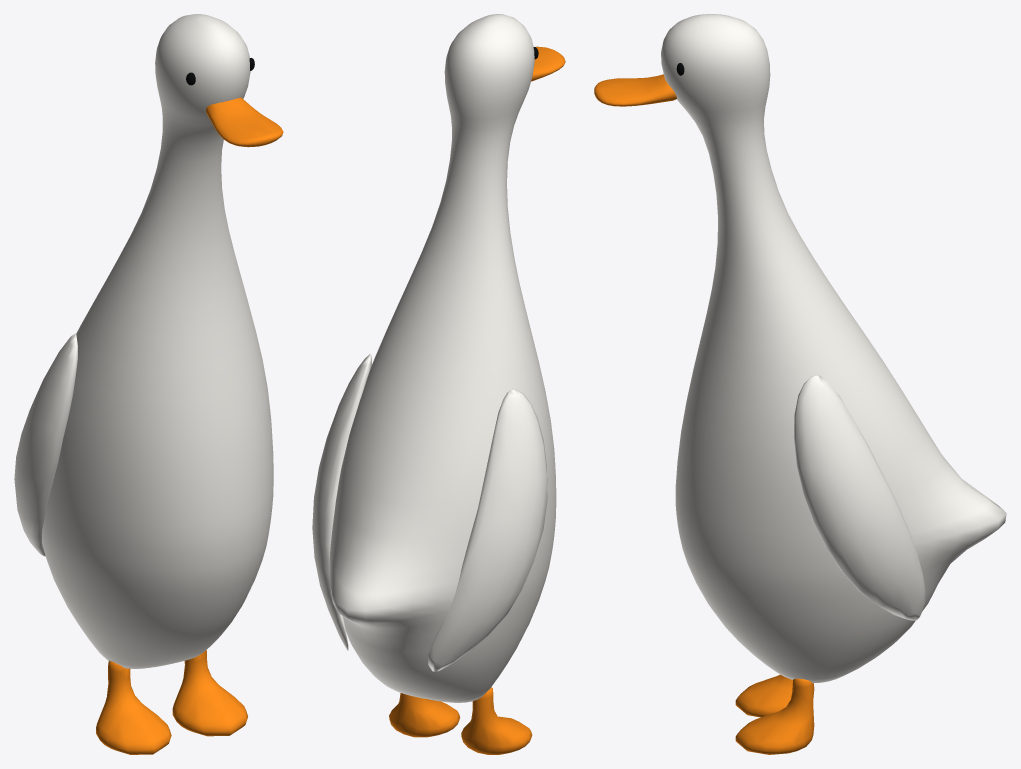
File: duck-b2-master.glb
3 views of the same model, side by side, from view 1: azimuth 30°, elevation 25°; view 2: azimuth 150°, elevation 25°; view 3: azimuth 270°, elevation 25° (orthographic). The views are drawn at different scales.
Visible parts, largest first — view 1: duck-b2-master; view 2: duck-b2-master; view 3: duck-b2-master.
Boxes of the visible parts, left/top/right/bottom form: duck-b2-master: left=14, top=14, right=283, bottom=754; duck-b2-master: left=312, top=14, right=565, bottom=754; duck-b2-master: left=594, top=14, right=1006, bottom=754.
Bounding box in the file's own units: 0.3269 × 1 × 0.5259.
1 material, 1 textured.
